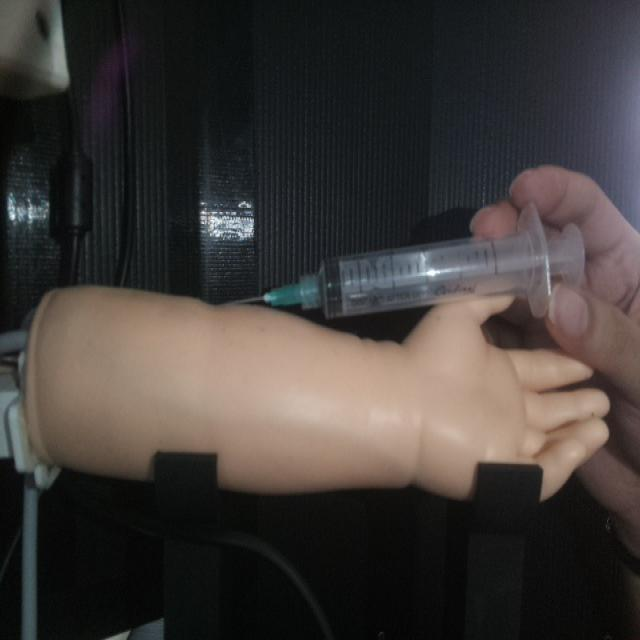Outside: (226, 200, 587, 323)
